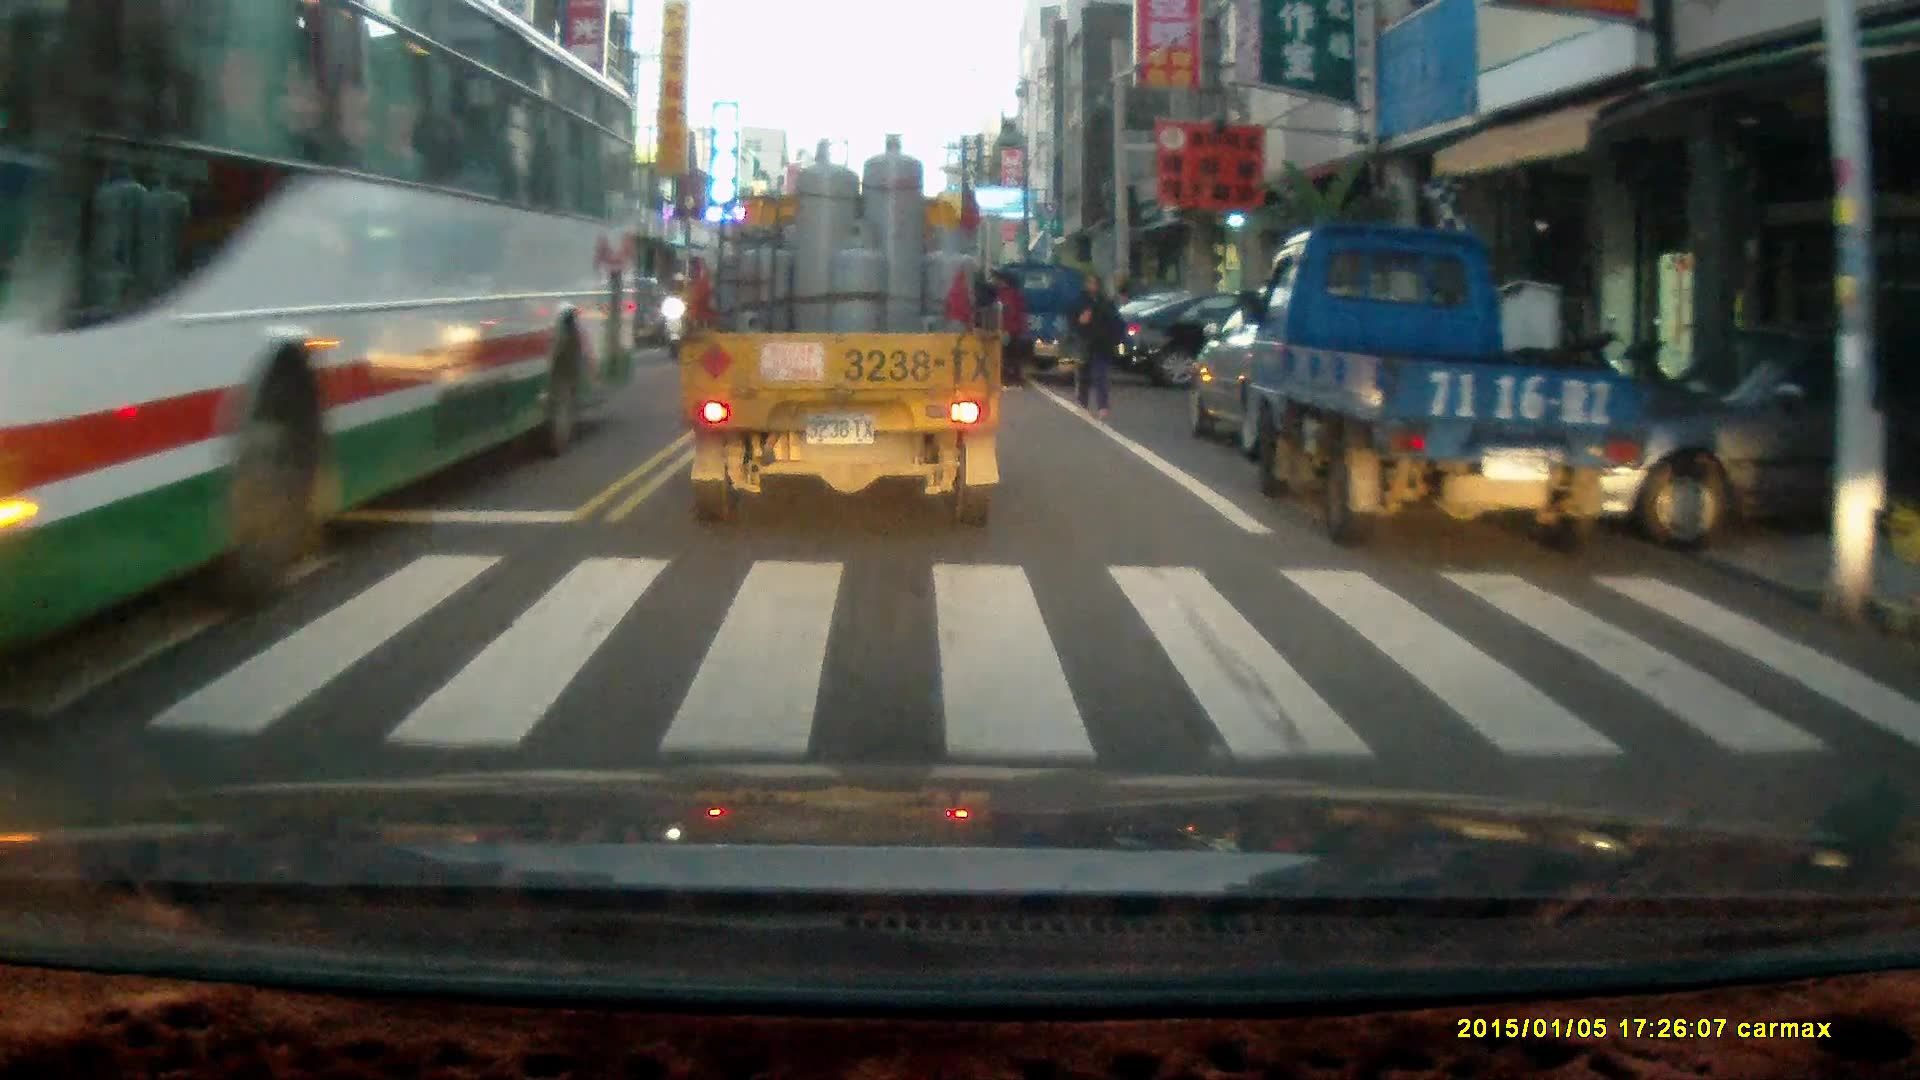pedestrian: (1068, 270, 1131, 418), (992, 267, 1027, 390)
rider: (660, 272, 697, 362)
vehicle: (1, 15, 636, 650), (1234, 217, 1645, 551), (678, 131, 1009, 532), (1183, 283, 1459, 468), (1115, 275, 1353, 390), (986, 260, 1108, 388)
